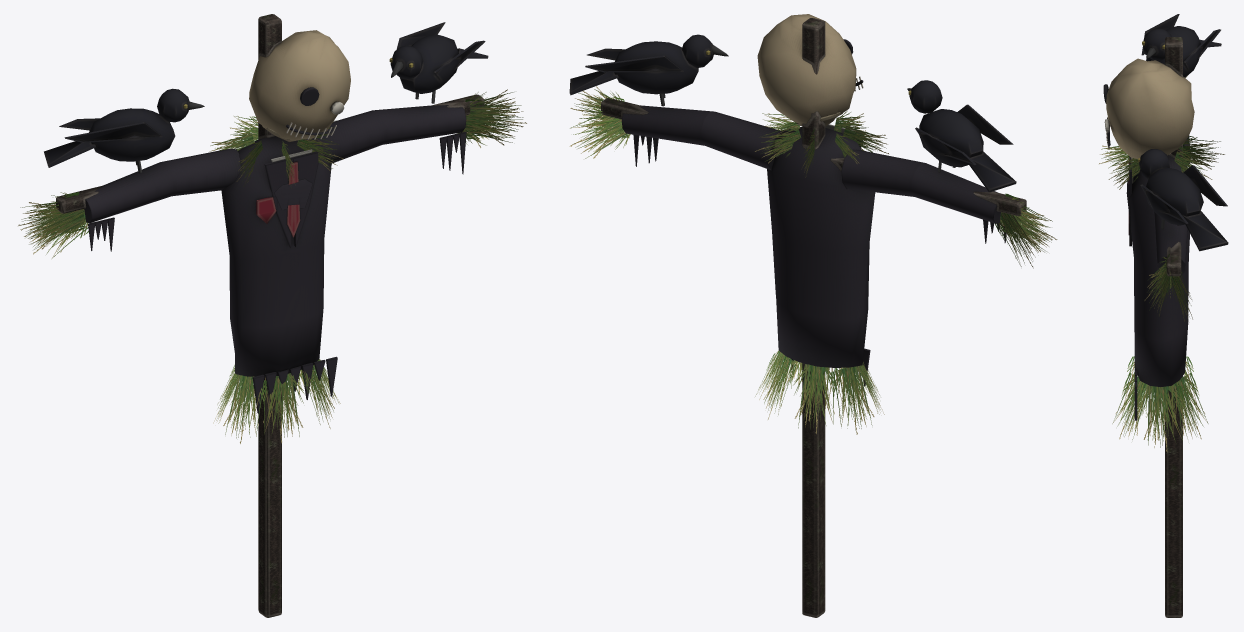
Rendered from Scarecrow.fbx.
The picture shows the model from 3 angles, left to right: view 1: azimuth 30°, elevation 25°; view 2: azimuth 150°, elevation 25°; view 3: azimuth 270°, elevation 25°; orthographic projection. The views are drawn at different scales.
Visible parts, largest first — view 1: Scarecrow_Main, Scarecrow_Leaves; view 2: Scarecrow_Main, Scarecrow_Leaves; view 3: Scarecrow_Main, Scarecrow_Leaves.
Part boxes in pixels (bbox=[...]): Scarecrow_Main: bbox=[44, 14, 488, 617]; Scarecrow_Leaves: bbox=[18, 89, 526, 443]; Scarecrow_Main: bbox=[569, 14, 1026, 617]; Scarecrow_Leaves: bbox=[569, 86, 1057, 434]; Scarecrow_Main: bbox=[1103, 14, 1228, 617]; Scarecrow_Leaves: bbox=[1099, 75, 1224, 452].
Size of the model in its own units: 615 by 700 by 153.
